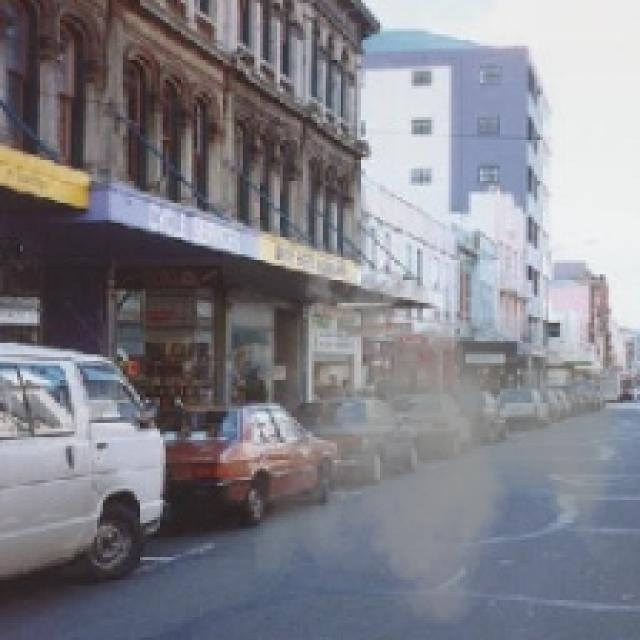smoke: (255, 249, 634, 637)
